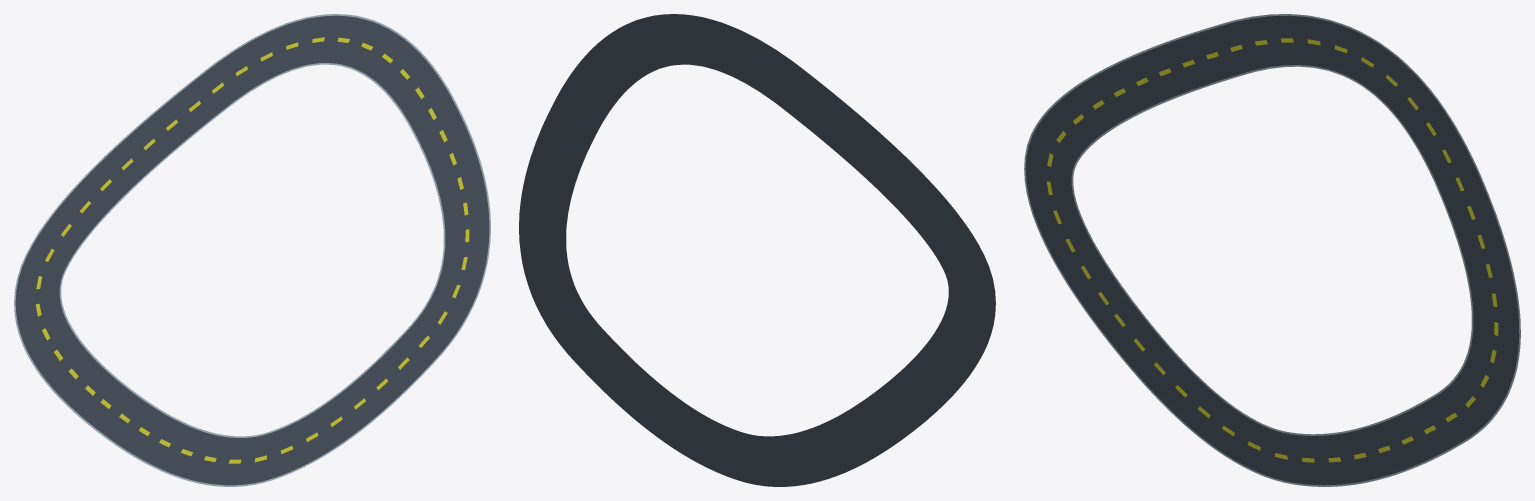
File: track.obj
3 views of the same model, side by side, from view 1: azimuth 30°, elevation 25°; view 2: azimuth 150°, elevation 25°; view 3: azimuth 330°, elevation 25° (orthographic). The views are drawn at different scales.
Size of the model in its own units: 11.88 by 10.83 by 0.002.
